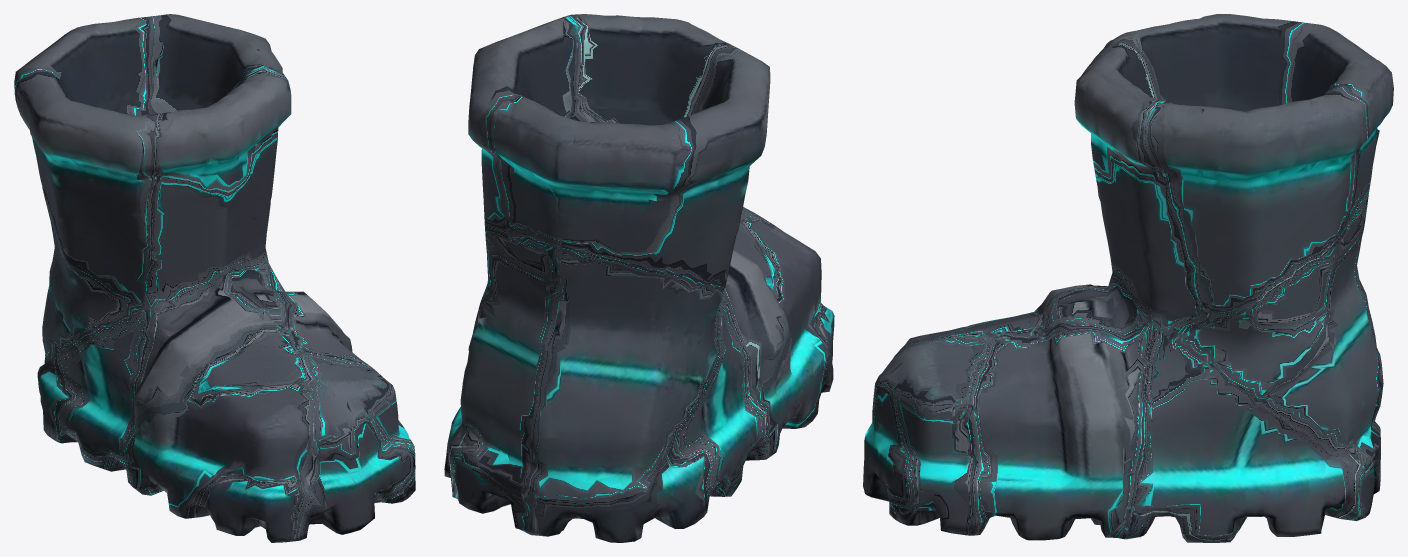
The model's file is vanguard_boot_B.glb.
3 views of the same model, side by side, from view 1: azimuth 30°, elevation 25°; view 2: azimuth 150°, elevation 25°; view 3: azimuth 270°, elevation 25° (orthographic). The views are drawn at different scales.
Size of the model in its own units: 0.1918 by 0.2597 by 0.2944.
1 material, 1 textured.
